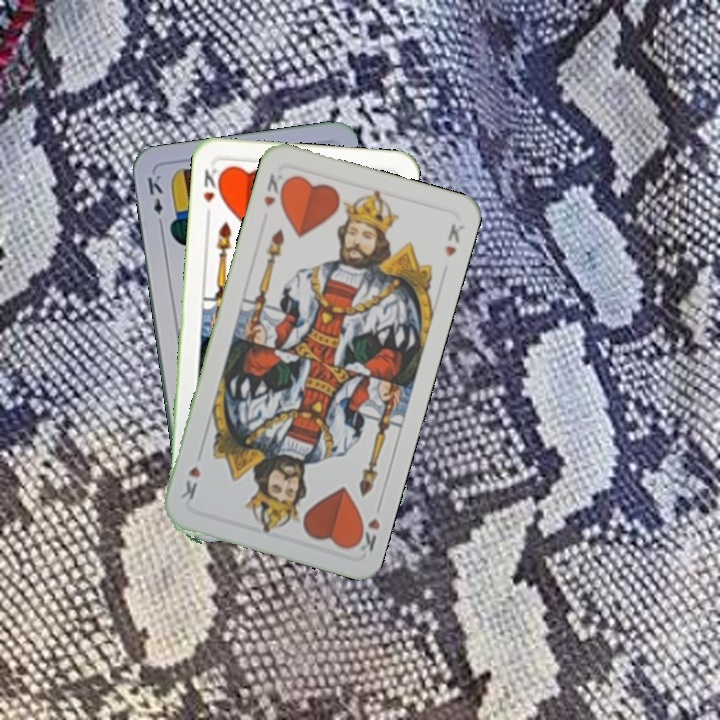EK: (143, 170, 166, 230)
HK: (349, 498, 384, 556), (199, 165, 225, 221), (259, 169, 291, 210)
